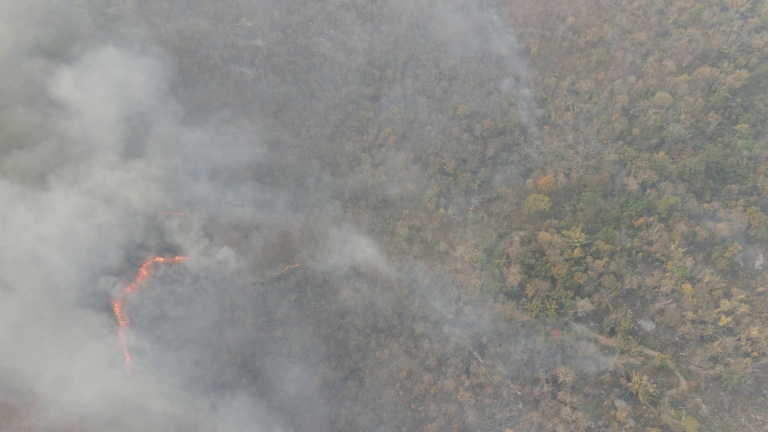fire: (109, 248, 204, 376), (155, 205, 200, 222), (268, 261, 309, 278)
smoke: (14, 114, 284, 432)
